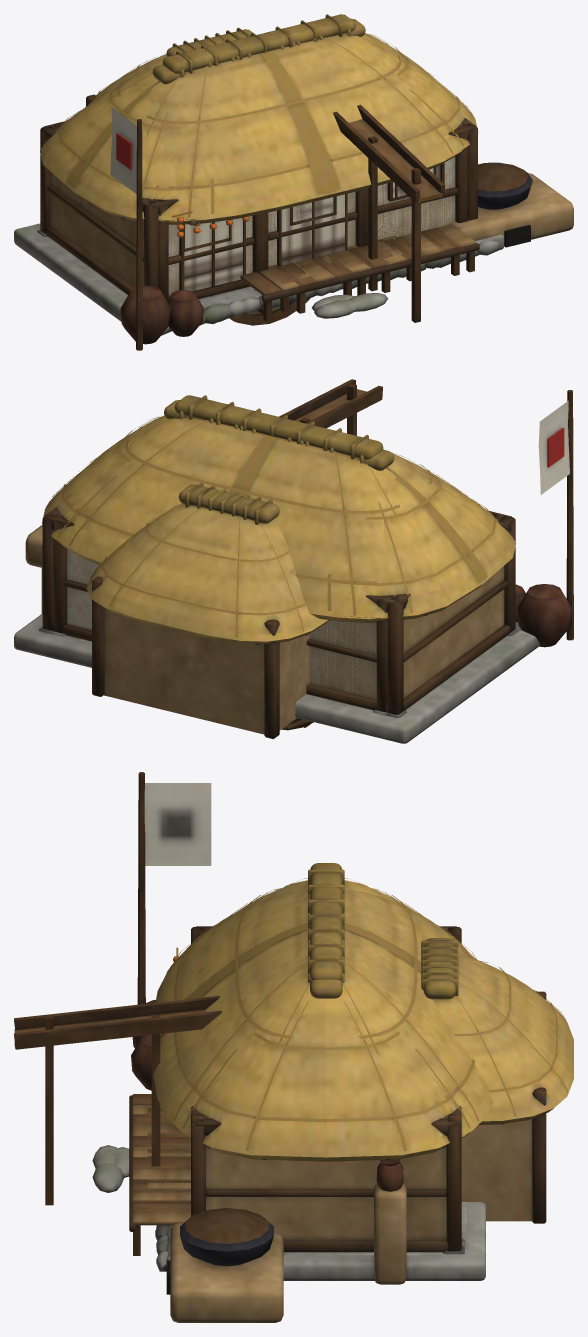
The model's file is fhouse.glb.
3 views of the same model, one above another, from view 1: azimuth 30°, elevation 25°; view 2: azimuth 150°, elevation 25°; view 3: azimuth 270°, elevation 25° (orthographic). The views are drawn at different scales.
Visible parts, largest first — view 1: jumak, thatch_a, mulle_house, thatch_b, mulle_wheel; view 2: jumak, mulle_house, thatch_a; view 3: jumak, thatch_a, mulle_house, thatch_b.
Boxes of the visible parts, box(x1,y1,x2,y2) form: jumak: box(28, 14, 573, 350); thatch_a: box(14, 18, 504, 335); mulle_house: box(86, 27, 444, 322); thatch_b: box(201, 38, 411, 311); mulle_wheel: box(229, 298, 309, 325); jumak: box(25, 390, 573, 740); mulle_house: box(86, 379, 382, 739); thatch_a: box(14, 400, 539, 743); jumak: box(92, 772, 492, 1322); thatch_a: box(92, 889, 485, 1284); mulle_house: box(14, 938, 573, 1223); thatch_b: box(114, 894, 466, 1231).
Bounding box in the file's own units: 9.14 × 5.73 × 7.89.
1 material, 1 textured.
